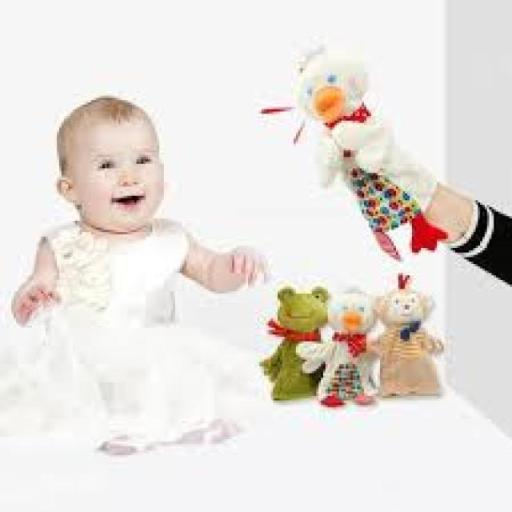baby: (0, 97, 267, 453)
